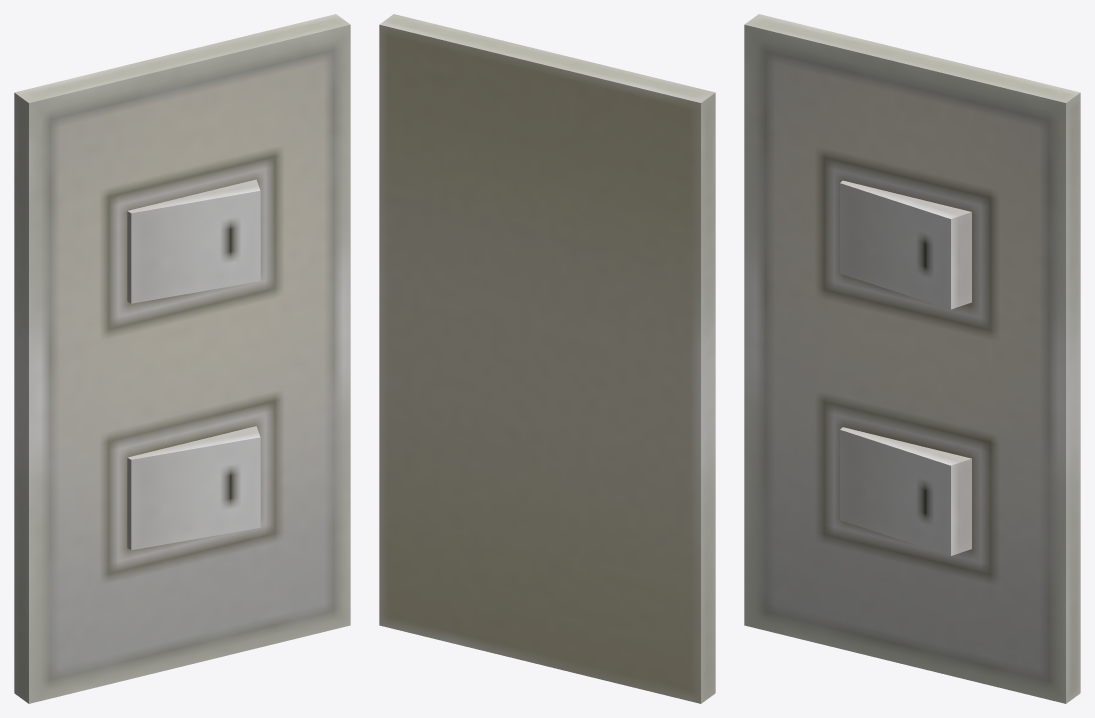
Rendered from Light_switch_01_01.fbx.
3 renders of one model, left to right at view 1: azimuth 30°, elevation 25°; view 2: azimuth 150°, elevation 25°; view 3: azimuth 330°, elevation 25°, orthographic.
Visible parts, largest first — view 1: light_switch_01, switch1, switch2; view 2: light_switch_01; view 3: light_switch_01, switch2, switch1.
Boxes of the visible parts, x1,y1,x2,y2 form: light_switch_01: (14,14,350,703); switch1: (127,179,260,303); switch2: (127,426,260,550); light_switch_01: (379,14,715,703); light_switch_01: (744,14,1080,703); switch2: (840,427,971,555); switch1: (840,180,971,309).
Bounding box in the file's own units: 7.13 × 12.73 × 1.04.
